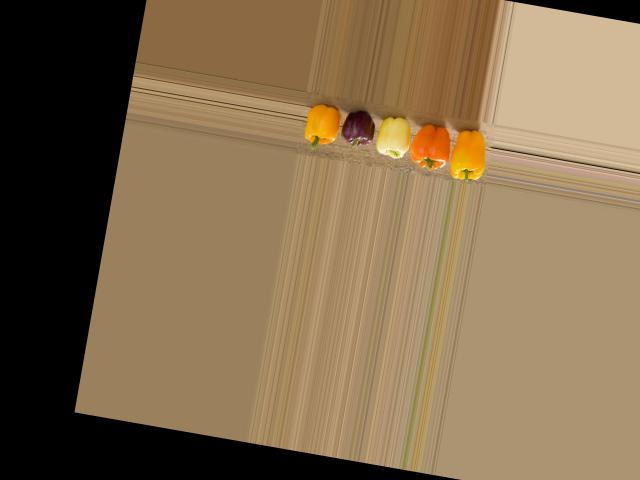bell_pepper: (298, 93, 341, 153)
